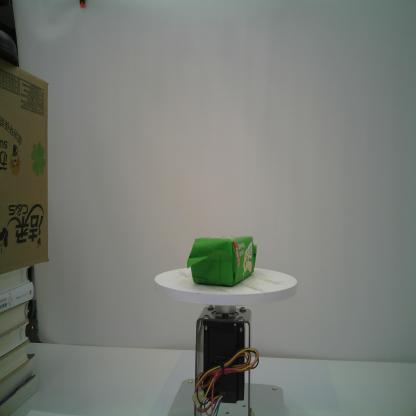Dessert: (187, 236, 256, 286)
